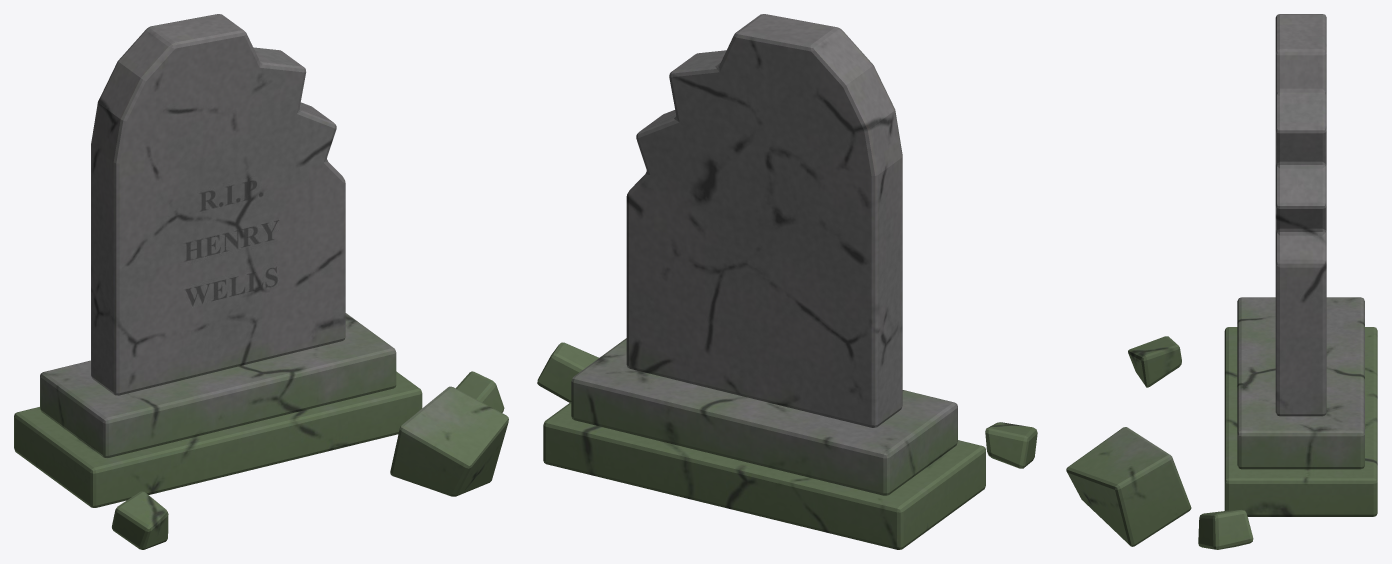
File: gravestone_arch_broken_a.glb
The picture shows the model from 3 angles, left to right: view 1: azimuth 30°, elevation 25°; view 2: azimuth 150°, elevation 25°; view 3: azimuth 270°, elevation 25°; orthographic projection. The views are drawn at different scales.
Parts seen in each view (by area): view 1: gravestone_arch_broken_a; view 2: gravestone_arch_broken_a; view 3: gravestone_arch_broken_a.
Boxes of the visible parts, x1,y1,x2,y2 form: gravestone_arch_broken_a: (14, 14, 508, 549); gravestone_arch_broken_a: (537, 14, 1037, 549); gravestone_arch_broken_a: (1066, 14, 1377, 549).
Bounding box in the file's own units: 1.07 × 1.09 × 0.7323.
1 material, 1 textured.
